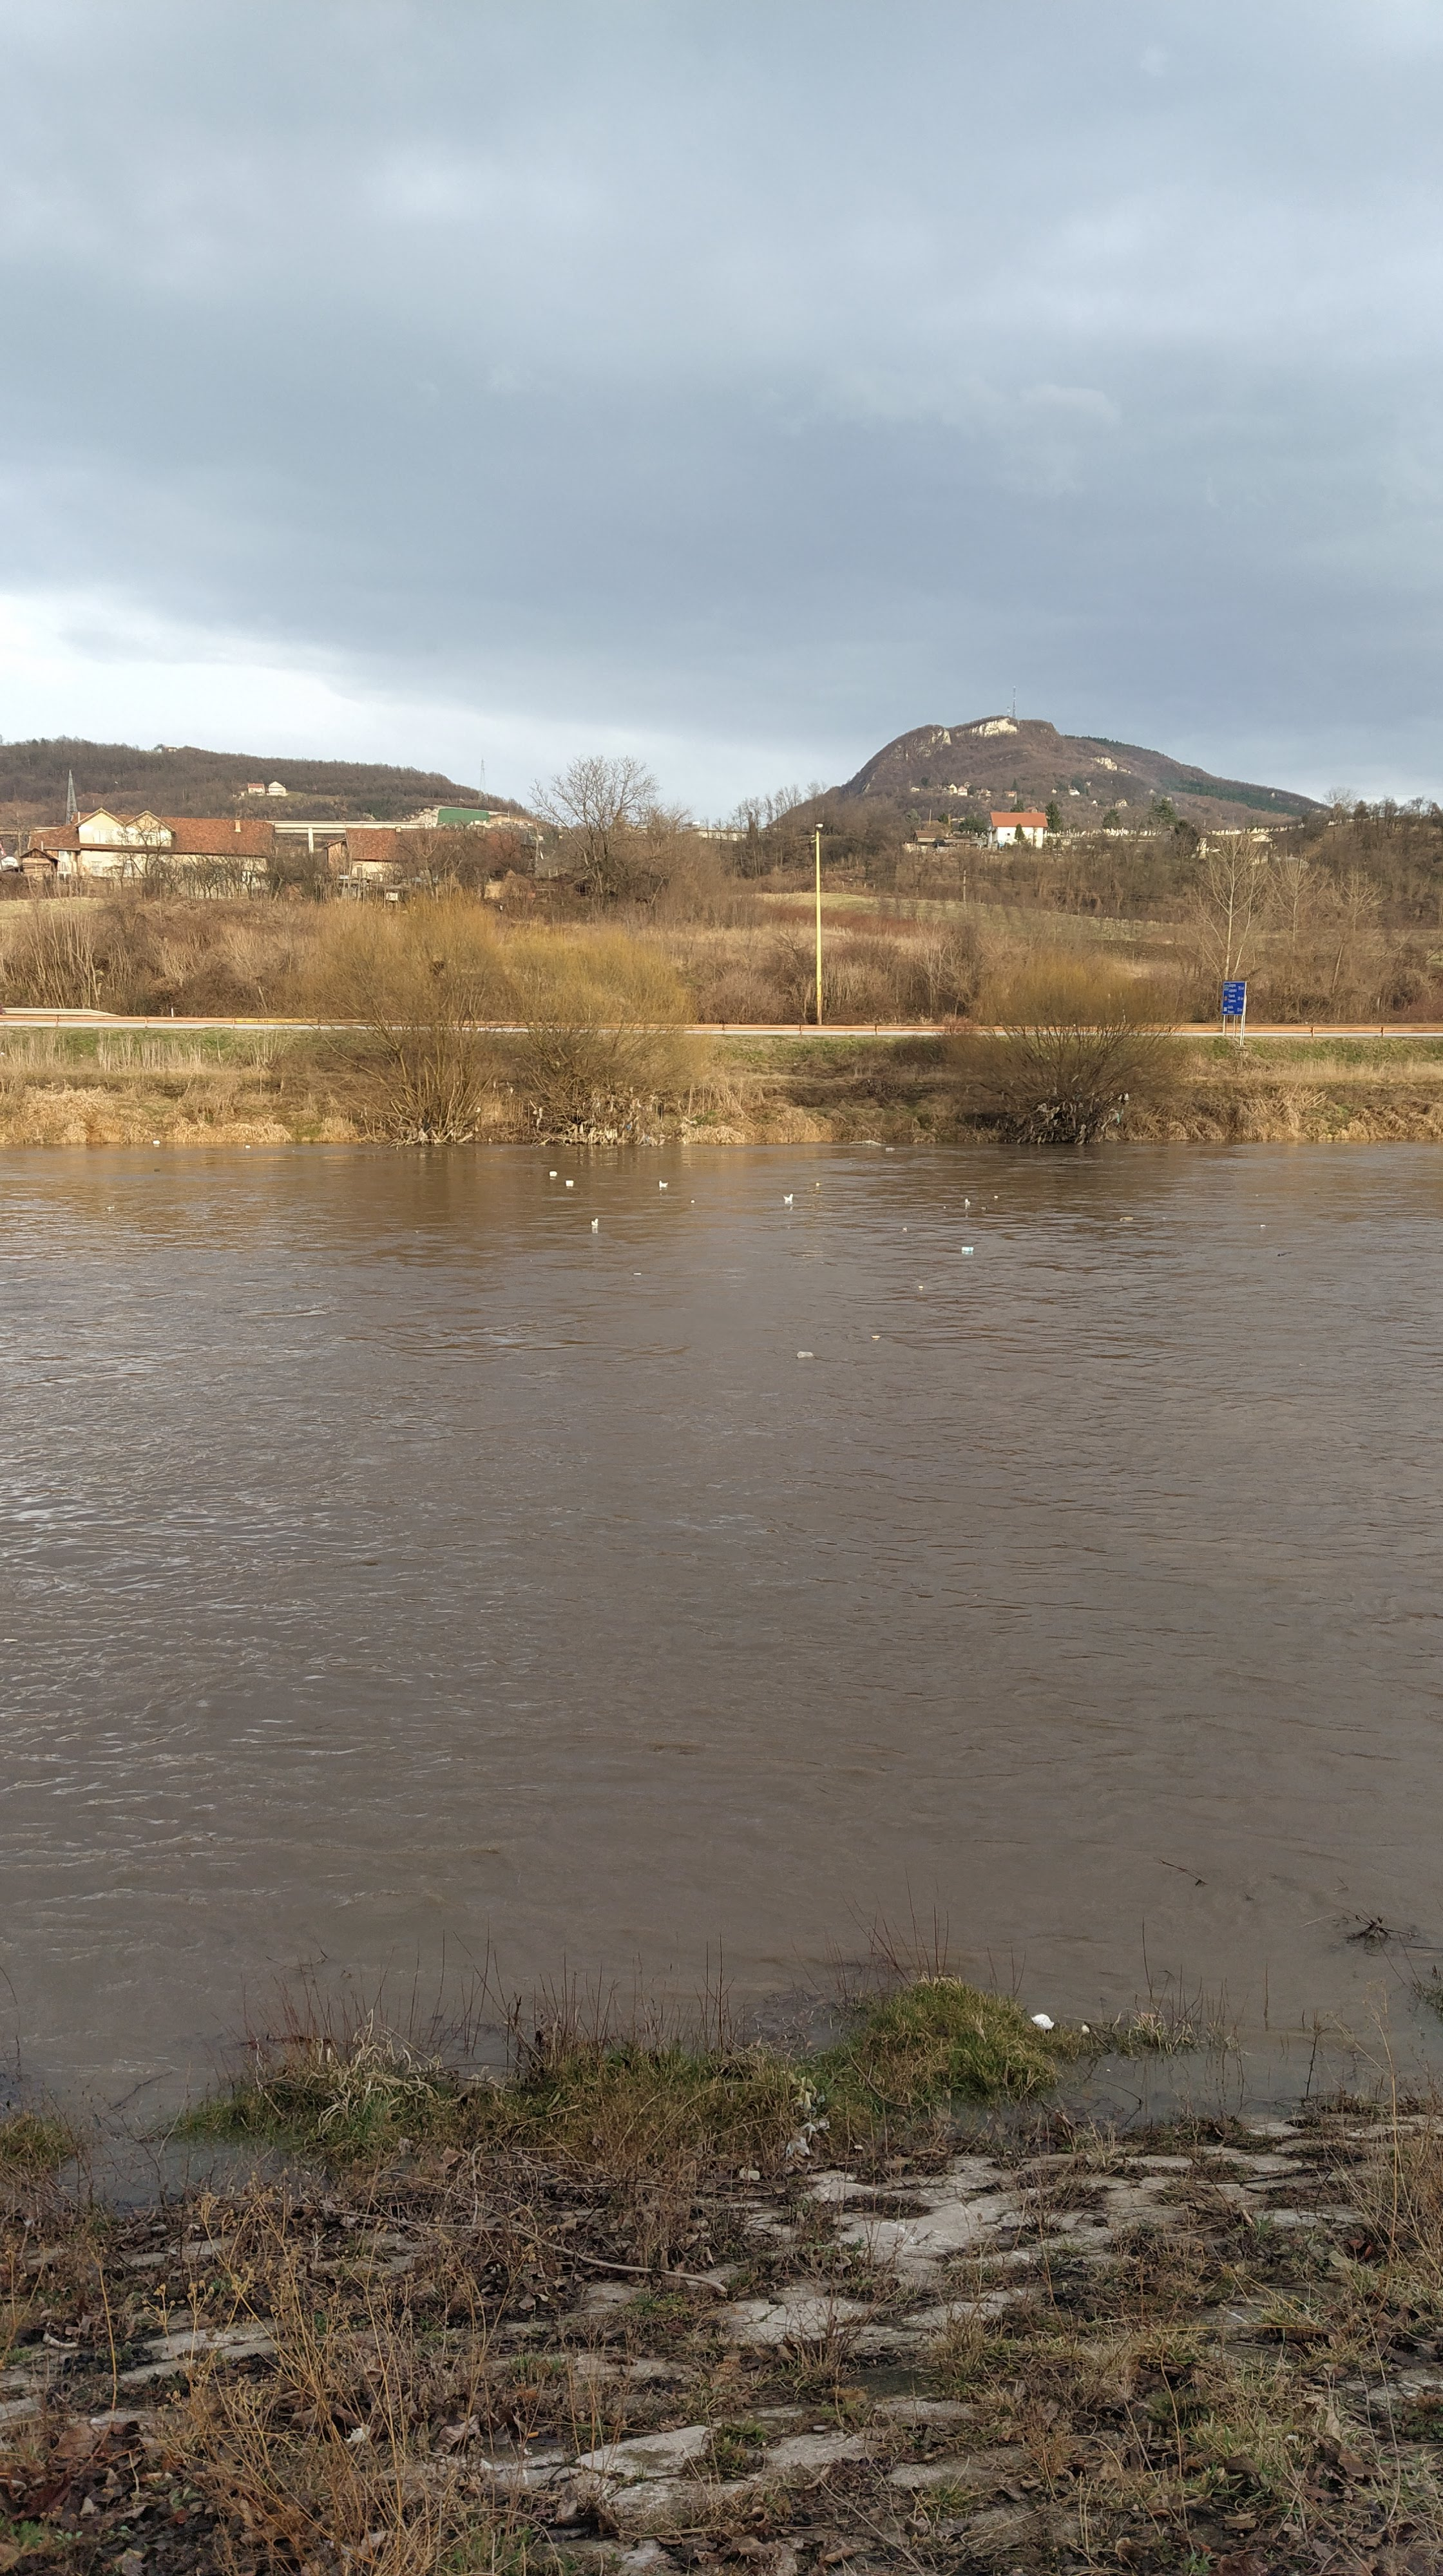Plastic Bottle: (795, 1352, 813, 1357), (960, 1246, 972, 1253), (1121, 1215, 1131, 1221), (104, 1205, 113, 1208), (565, 1180, 572, 1184), (551, 1171, 556, 1175), (885, 1148, 894, 1150), (152, 1141, 159, 1143), (246, 1145, 250, 1146)
